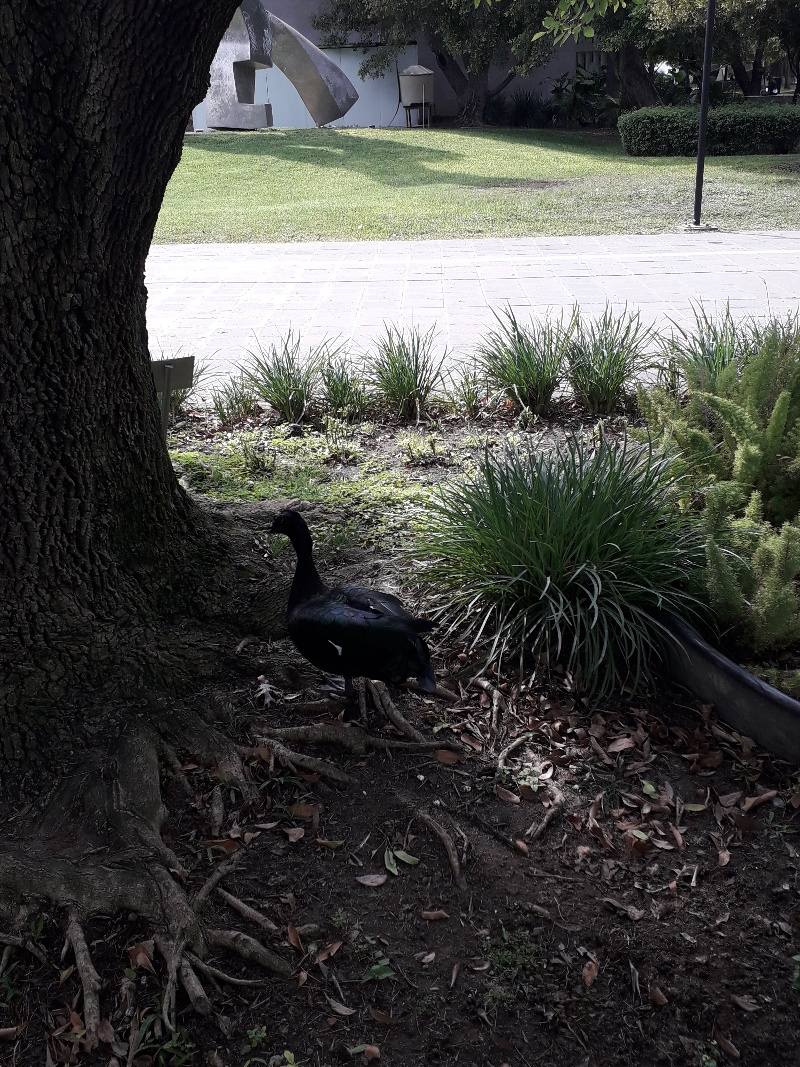pato: (267, 510, 439, 680)
